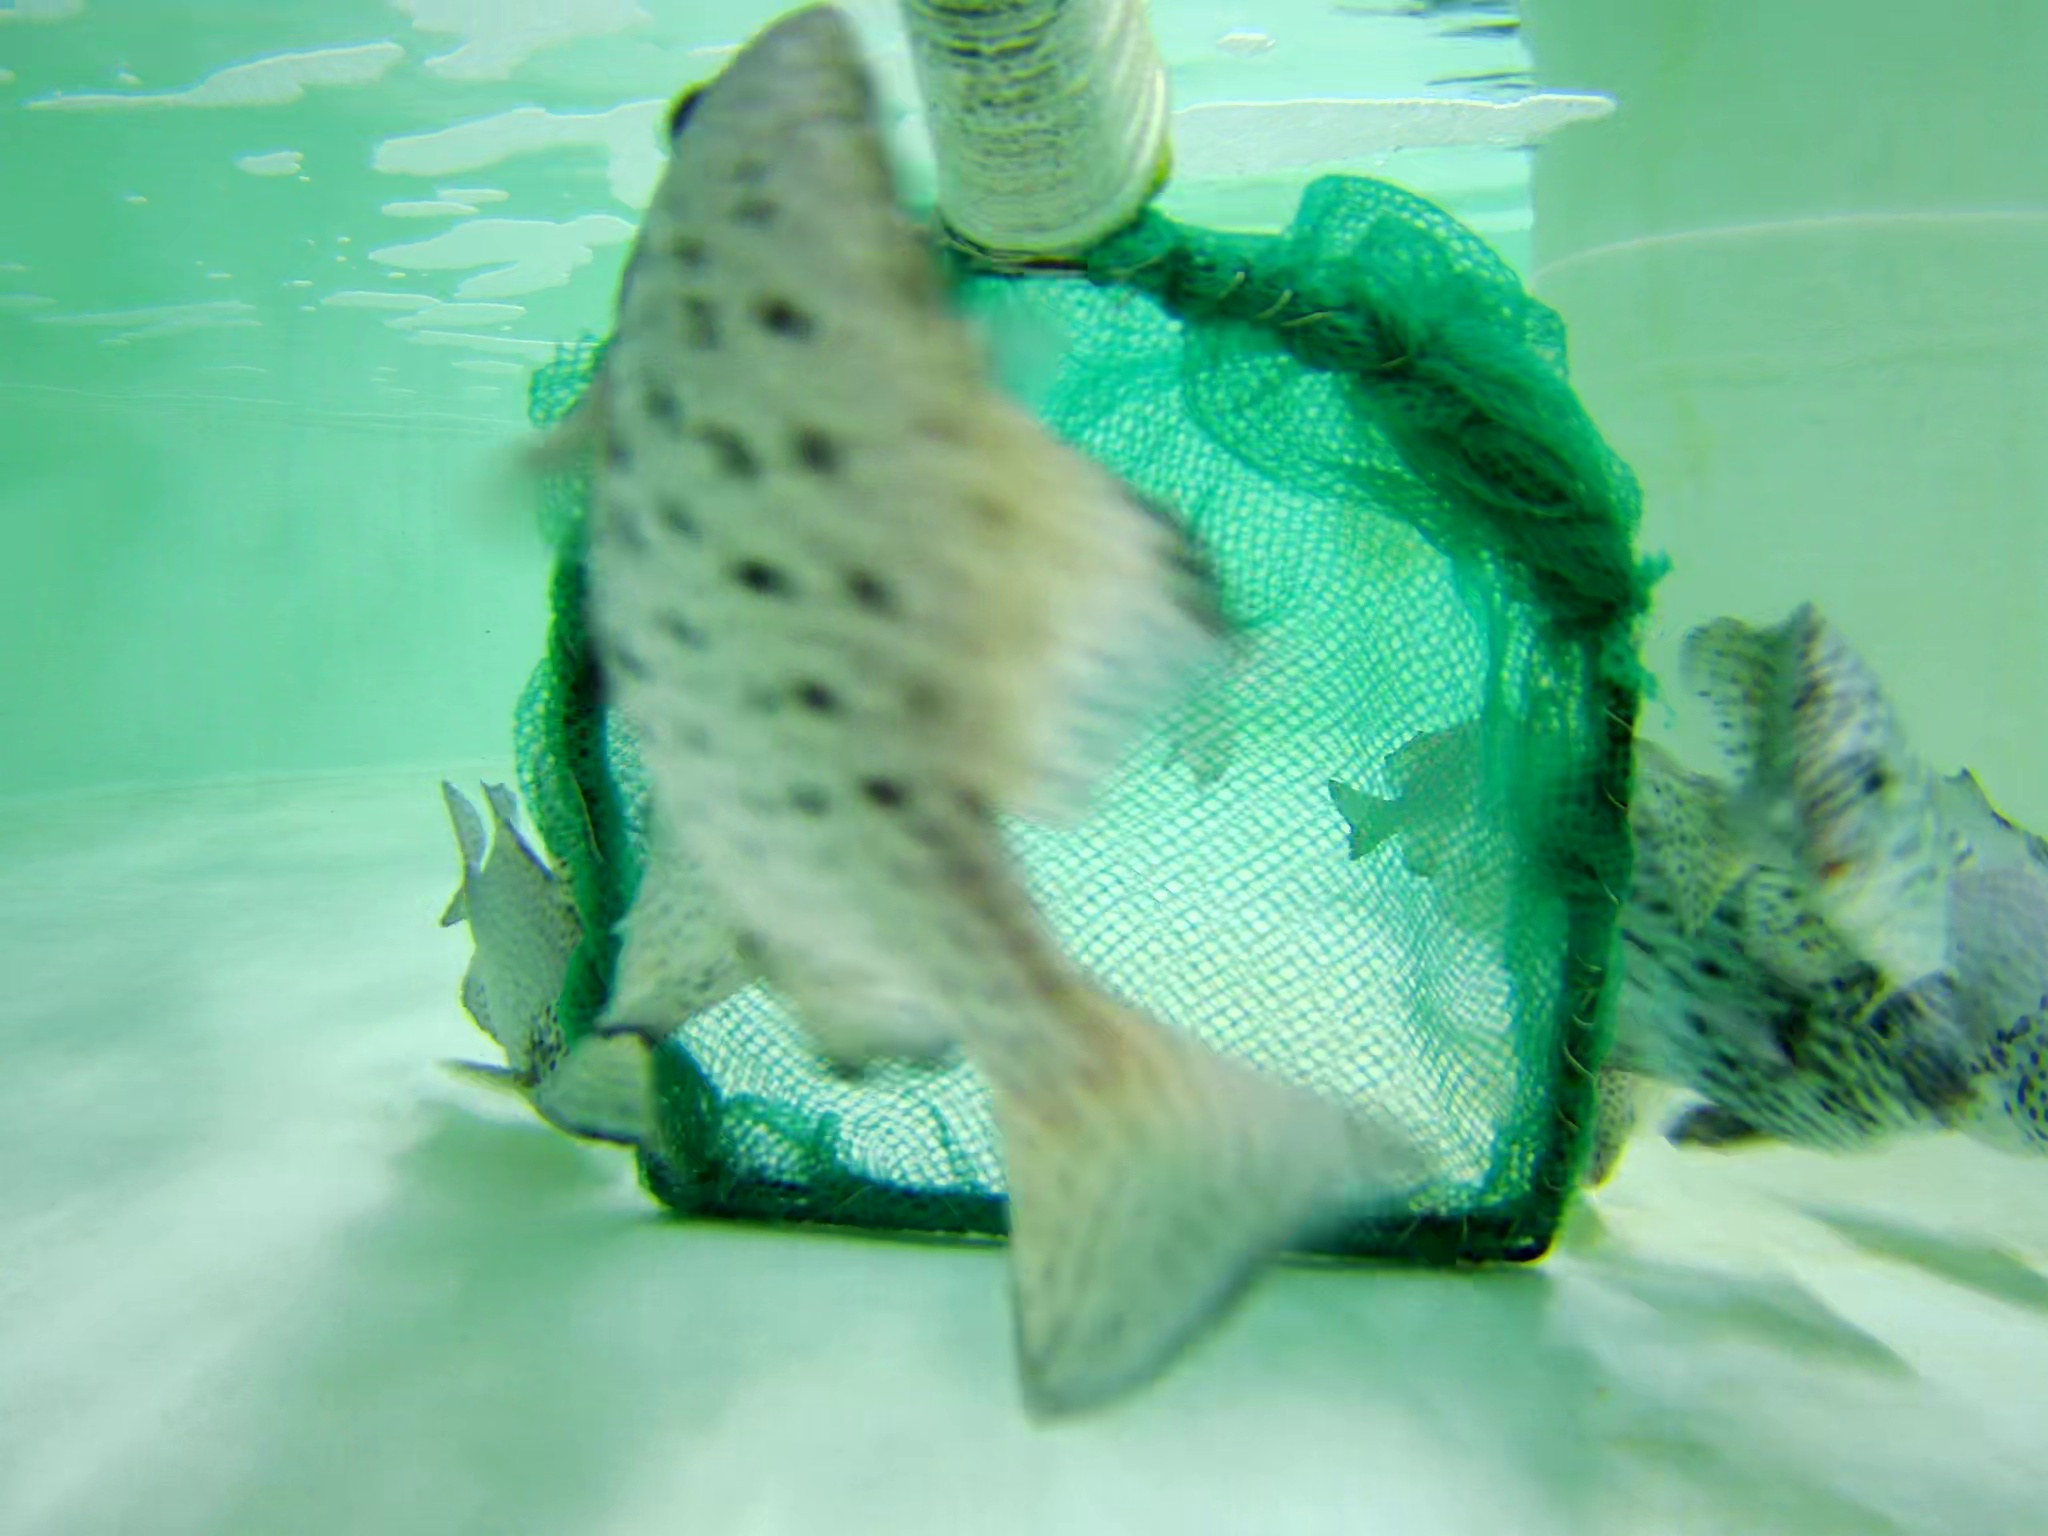fish: (555, 8, 1448, 1421), (1530, 763, 1874, 1121), (1755, 584, 1969, 1016), (1629, 723, 1956, 949), (1322, 702, 1571, 923), (421, 794, 600, 1065), (1159, 632, 1251, 794)
